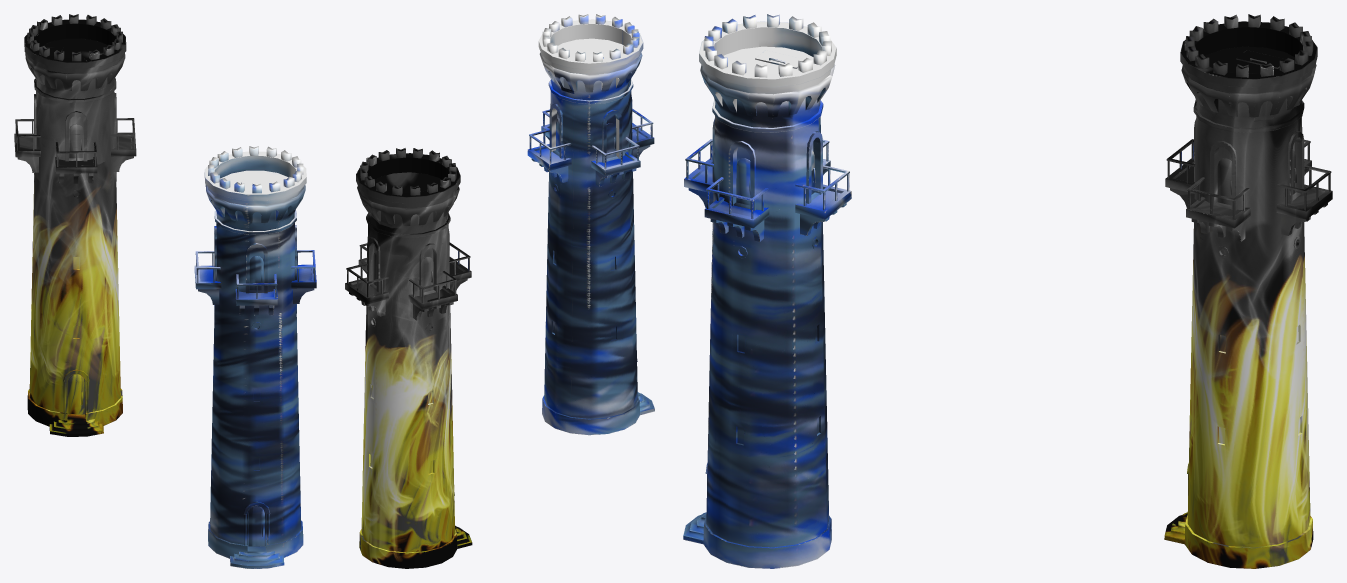
Rendered from opposite.glb.
3 renders of one model, left to right at view 1: azimuth 30°, elevation 25°; view 2: azimuth 150°, elevation 25°; view 3: azimuth 270°, elevation 25°, orthographic. The views are drawn at different scales.
Visible parts, largest first — view 1: kickelhahn_tower (×2); view 2: kickelhahn_tower (×2); view 3: kickelhahn_tower (×2).
Boxes of the visible parts, left/top/right/bottom form: kickelhahn_tower (×2): left=14, top=14, right=316, bottom=568; kickelhahn_tower (×2): left=345, top=14, right=654, bottom=568; kickelhahn_tower (×2): left=683, top=14, right=1332, bottom=568.
Size of the model in its own units: 7.29 by 24.03 by 28.27.
2 materials, 2 textured.
